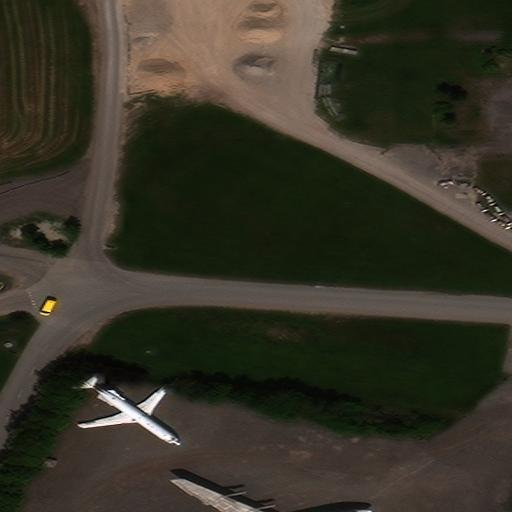Large Civil Transport: (166, 478, 374, 512)
Medium Civil Transport: (78, 378, 181, 445)
